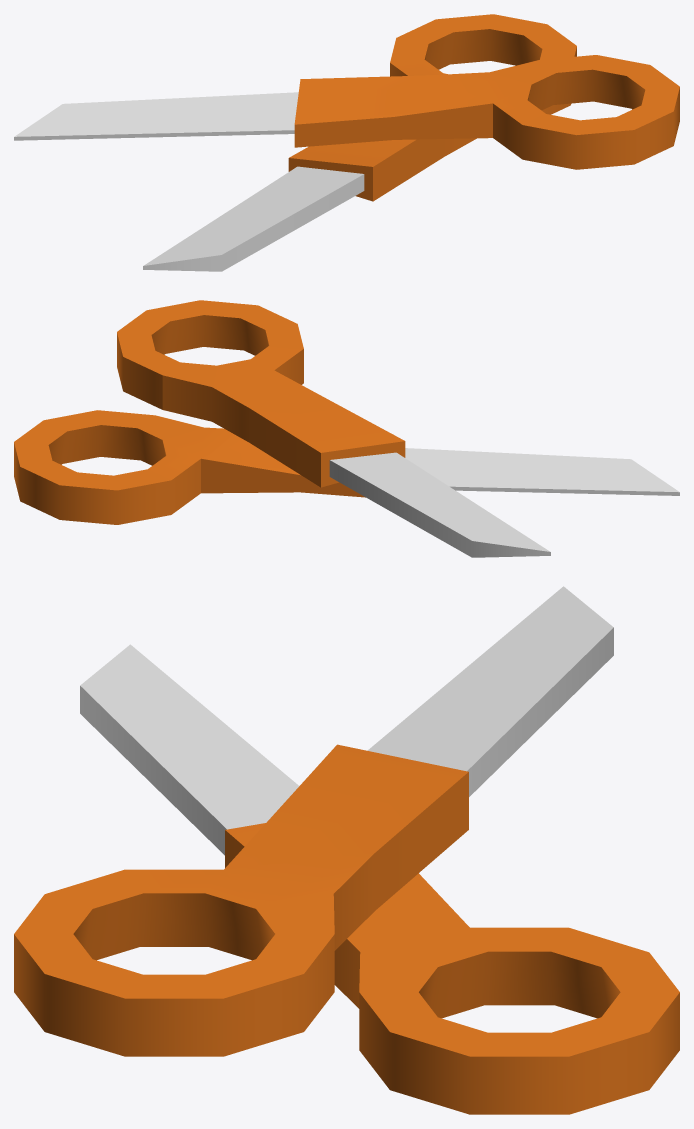
Rendered from Makas.fbx.
The picture shows the model from 3 angles, top to bottom: view 1: azimuth 30°, elevation 25°; view 2: azimuth 150°, elevation 25°; view 3: azimuth 270°, elevation 25°; orthographic projection. The views are drawn at different scales.
Parts seen in each view (by area): view 1: Makas; view 2: Makas; view 3: Makas.
Part boxes in pixels (x1,y1,x2,y2): Makas: (14, 14, 679, 271); Makas: (14, 300, 679, 557); Makas: (14, 586, 679, 1114).
Size of the model in its own units: 647 by 80 by 415.
